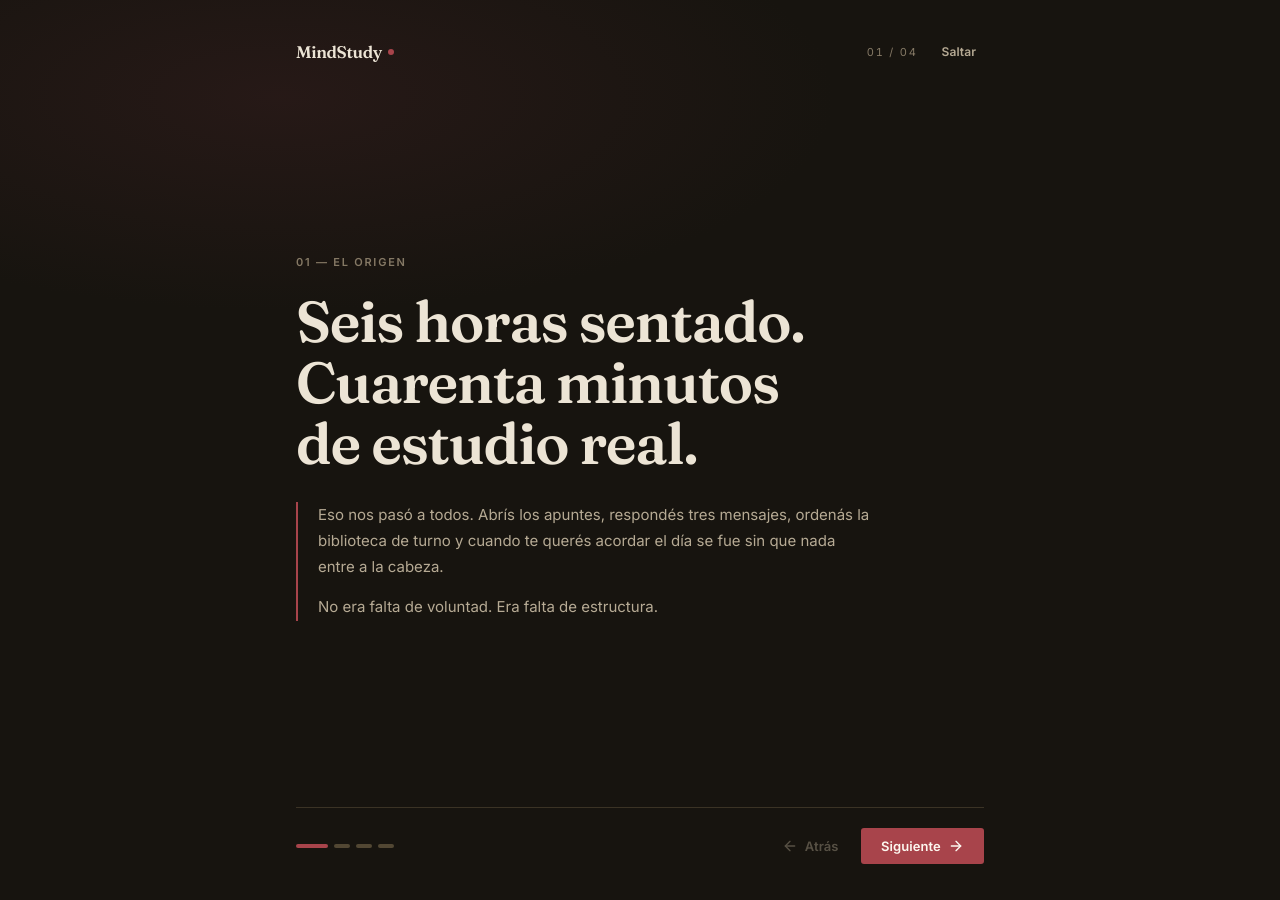
Intro › opens with the story and enters the app on Empezar
Expected: the text "01 — El origen" is shown, [296, 255, 407, 269]
Expected: the text "Tu día" is not shown
Click the button "Siguiente": point(922, 846) [861, 828, 984, 864]
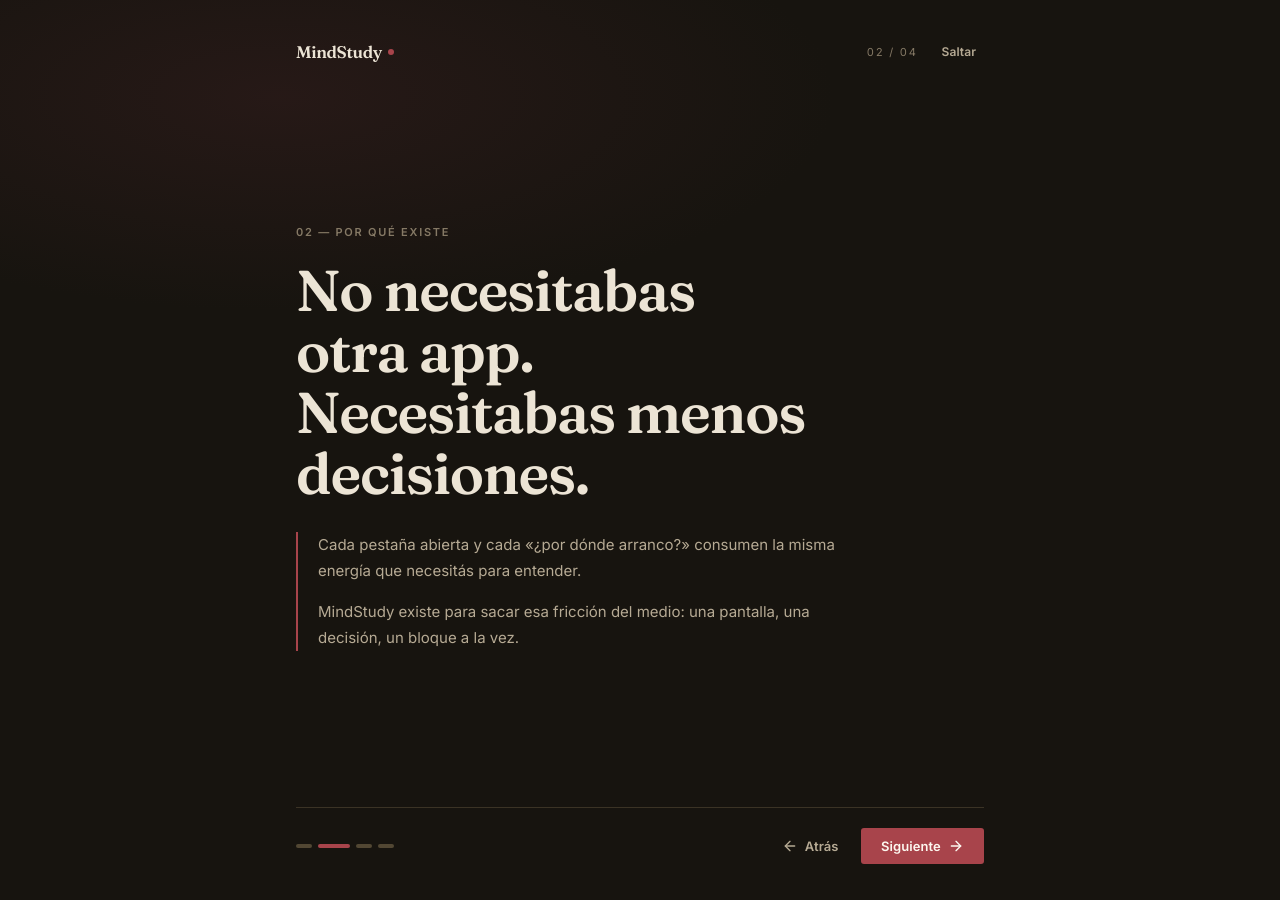
Click the button "Siguiente": point(922, 846) [861, 828, 984, 864]
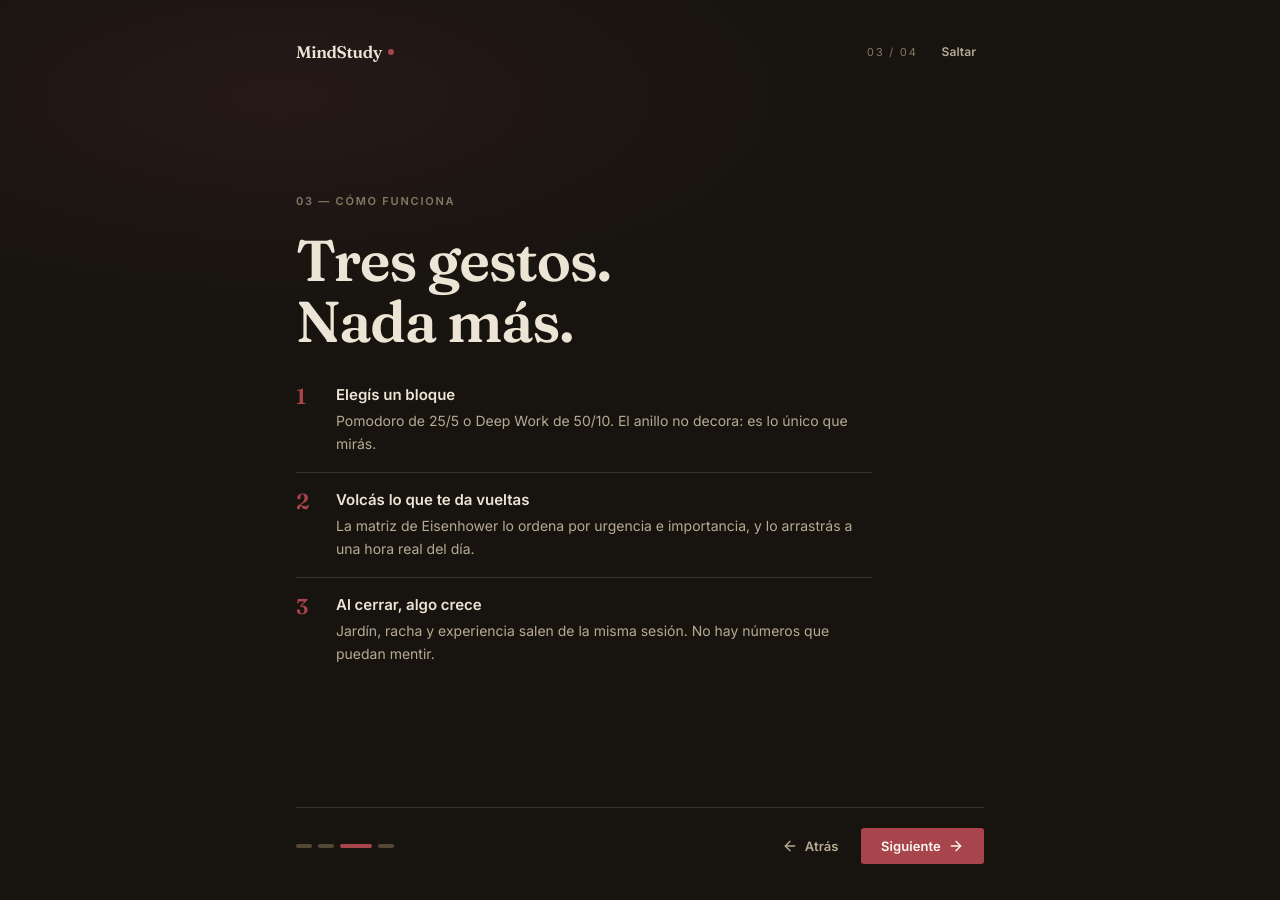
Click the button "Siguiente": point(922, 846) [861, 828, 984, 864]
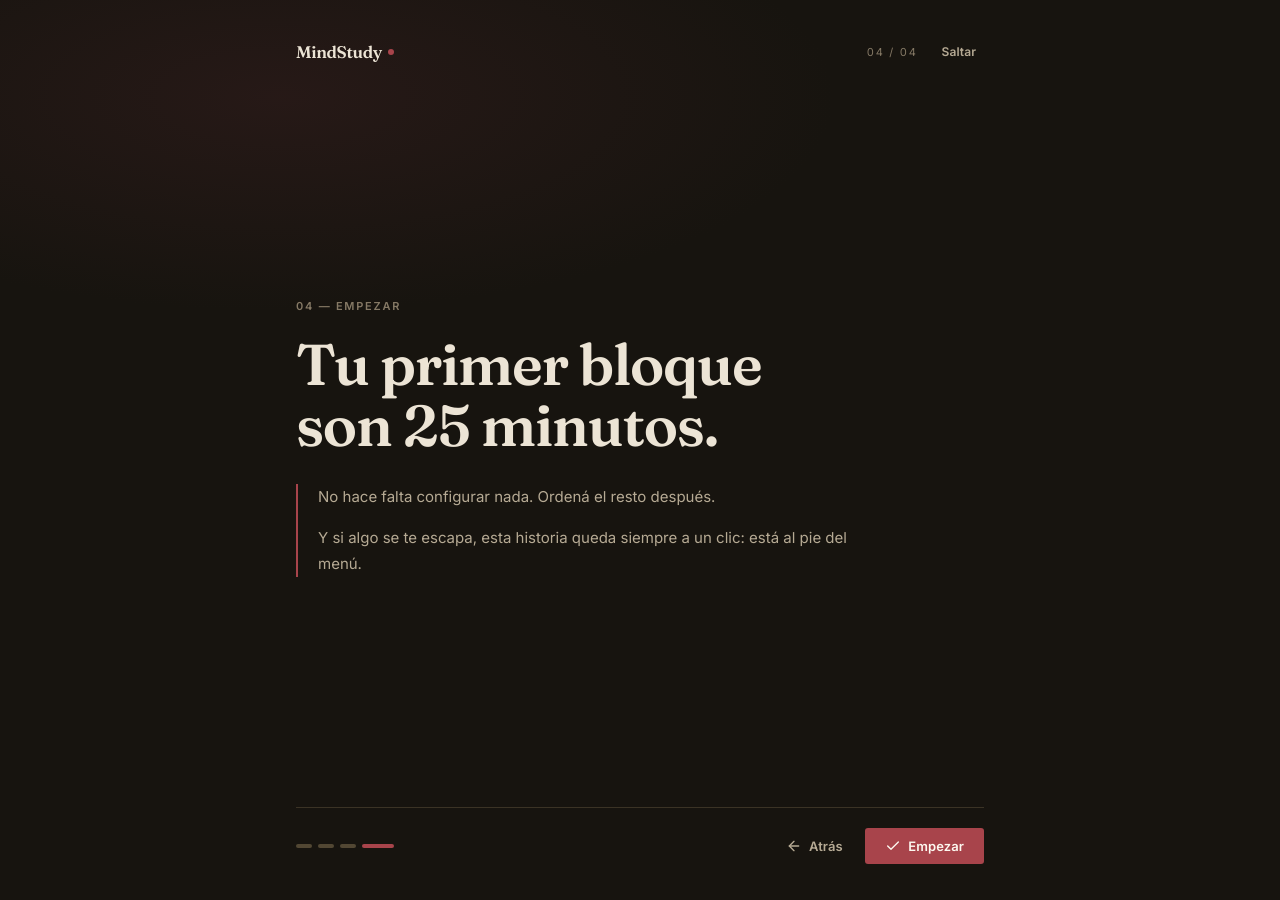
Click the button "Empezar": point(925, 846) [865, 828, 984, 864]
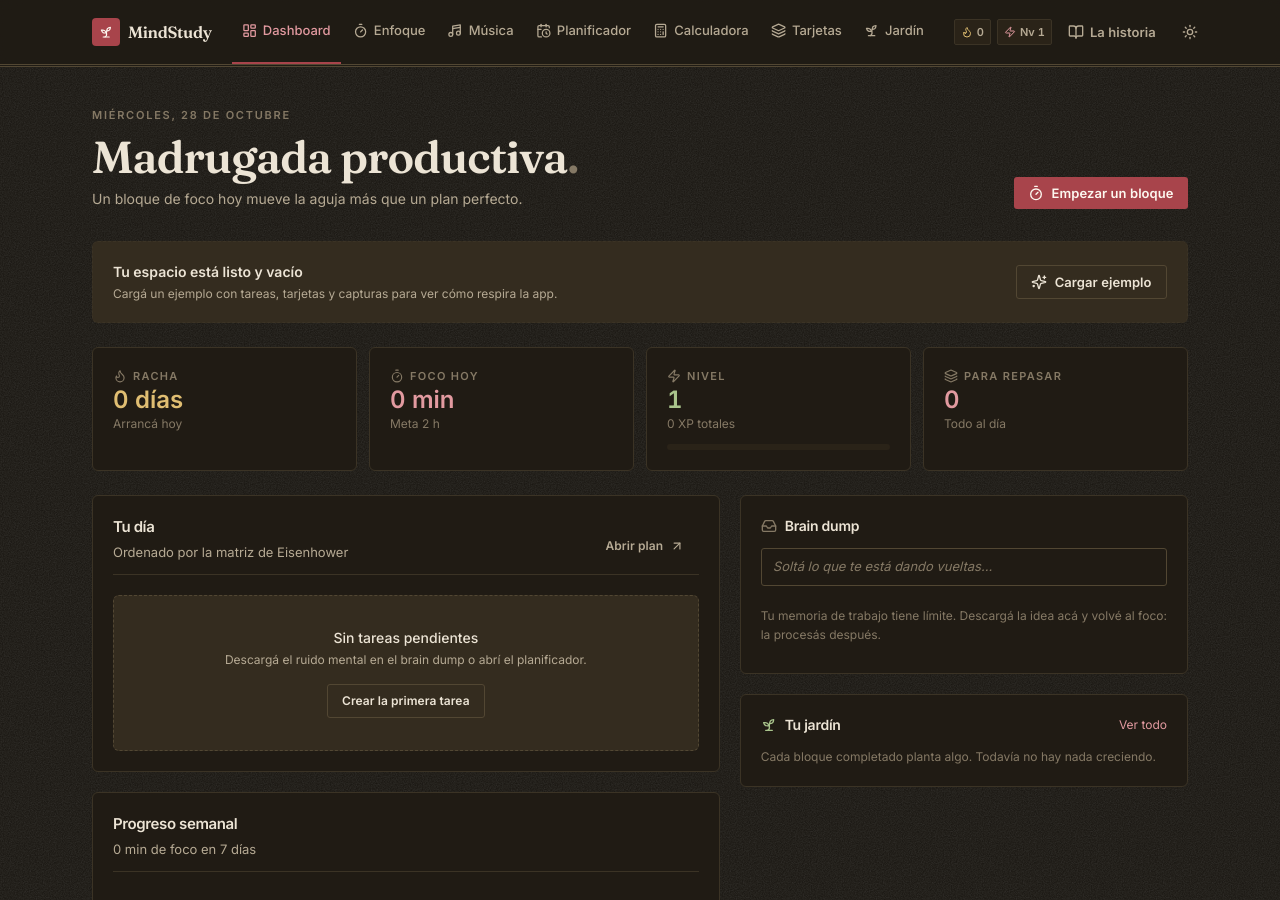
Expected: the heading "Tu día" is shown, [113, 517, 154, 536]
